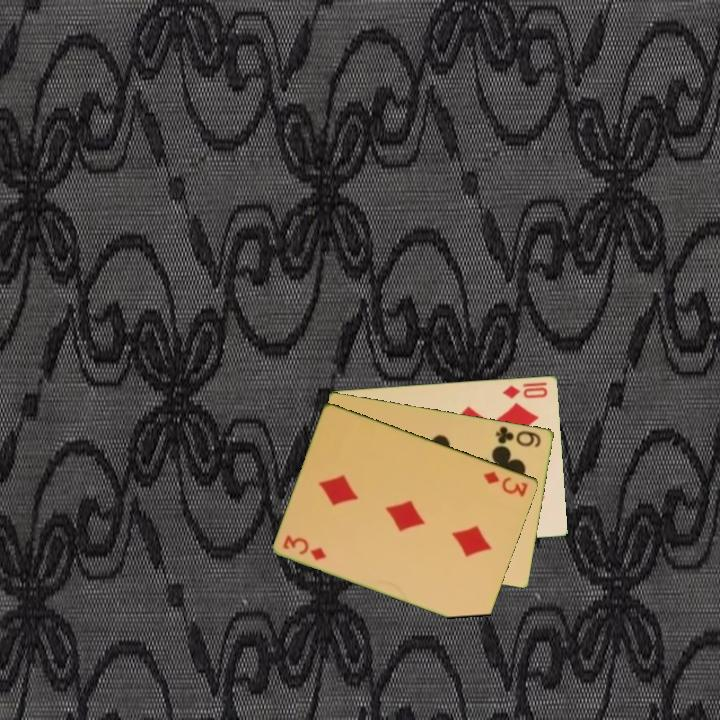10d: (499, 382, 551, 401)
3d: (480, 467, 531, 500), (280, 531, 330, 563)
6c: (492, 422, 544, 450)
